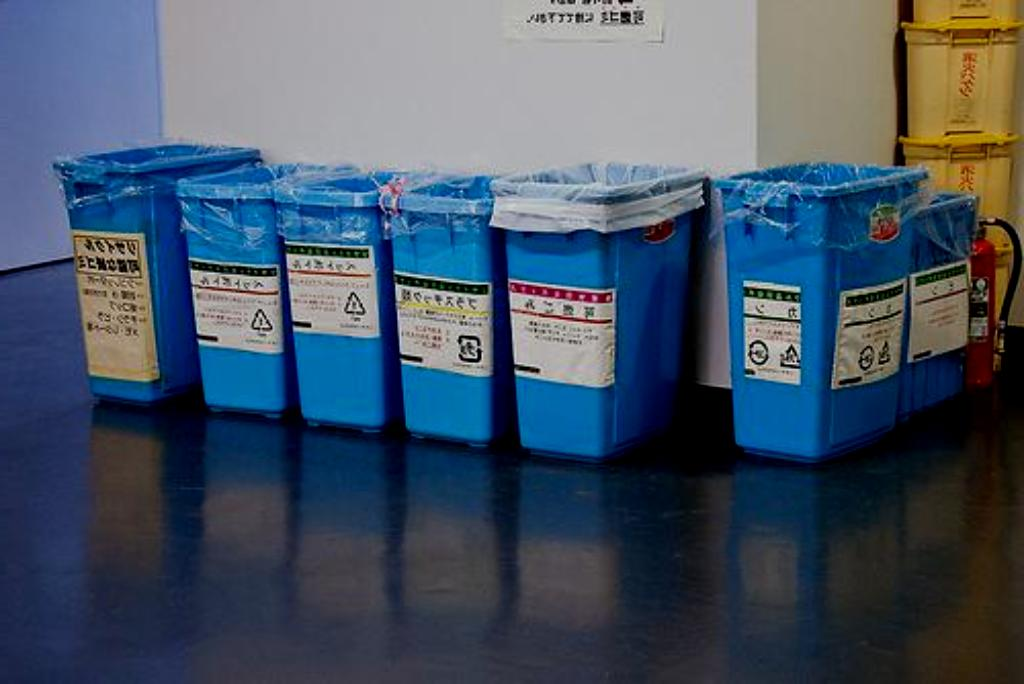dustbin: (50, 152, 705, 446), (504, 157, 699, 467), (720, 155, 922, 453), (53, 134, 253, 399), (282, 158, 398, 439), (393, 160, 500, 439), (176, 159, 281, 421)
